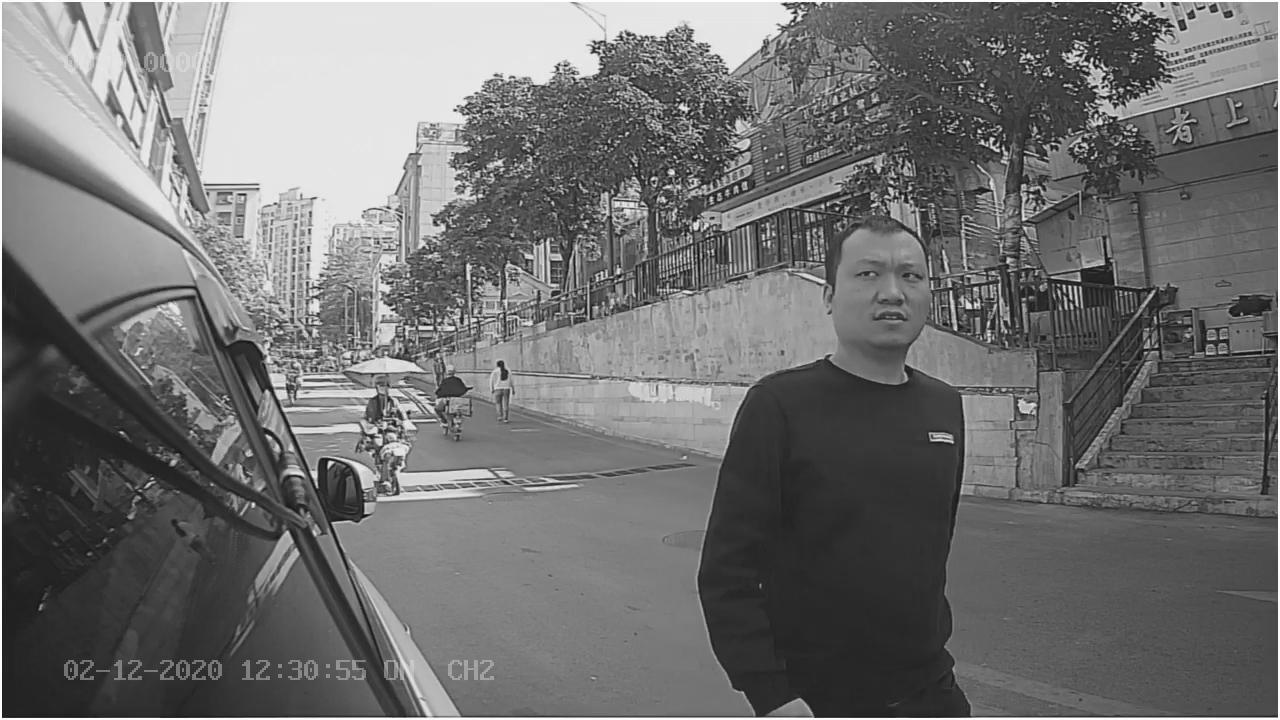person: (695, 214, 971, 559)
